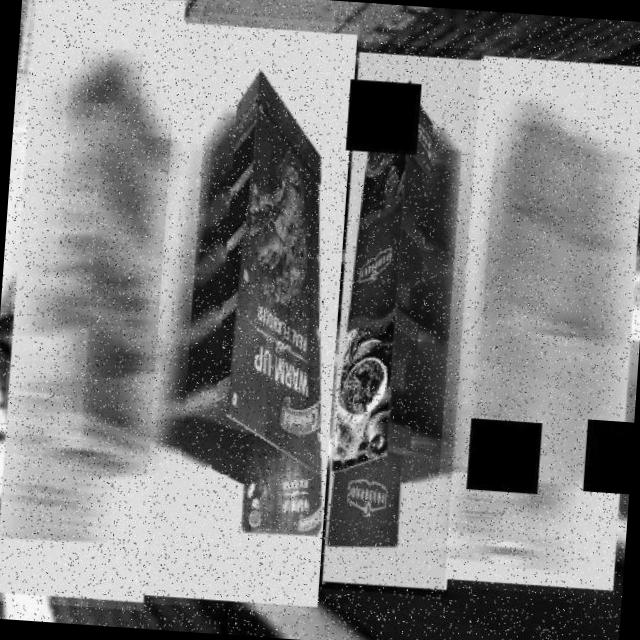box: (138, 9, 360, 614), (0, 0, 187, 611), (443, 45, 640, 598), (318, 39, 486, 597)
